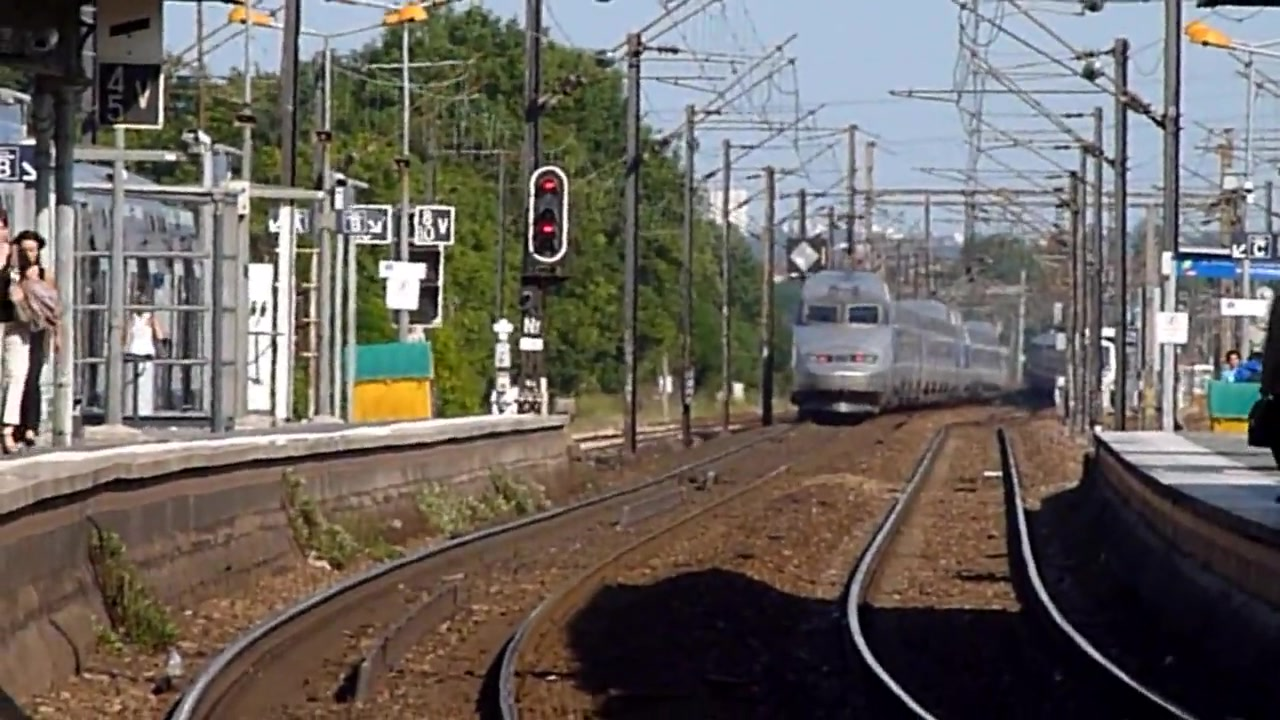train: (792, 263, 1018, 419)
